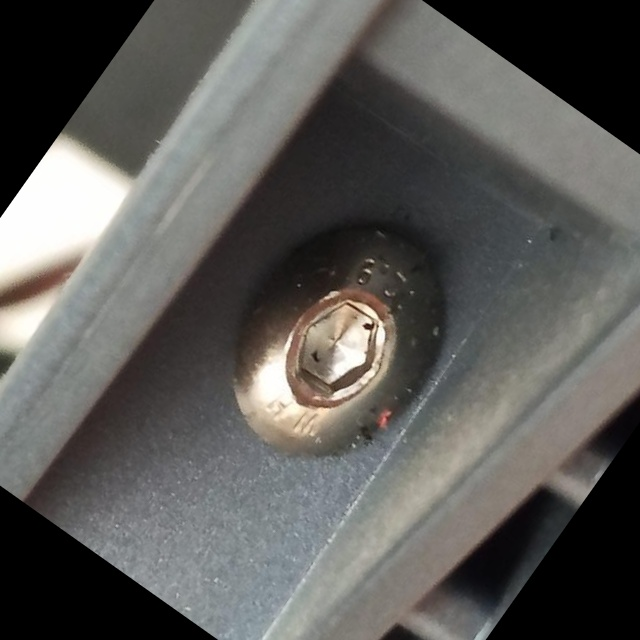allen: (282, 283, 397, 403)
